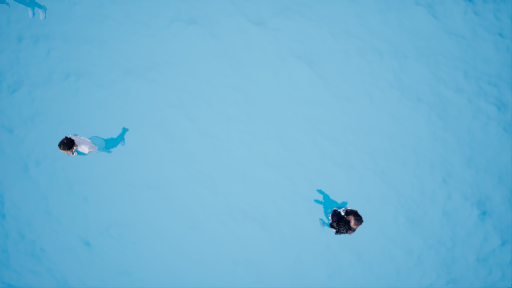person: (303, 185, 373, 237), (56, 129, 133, 161)
